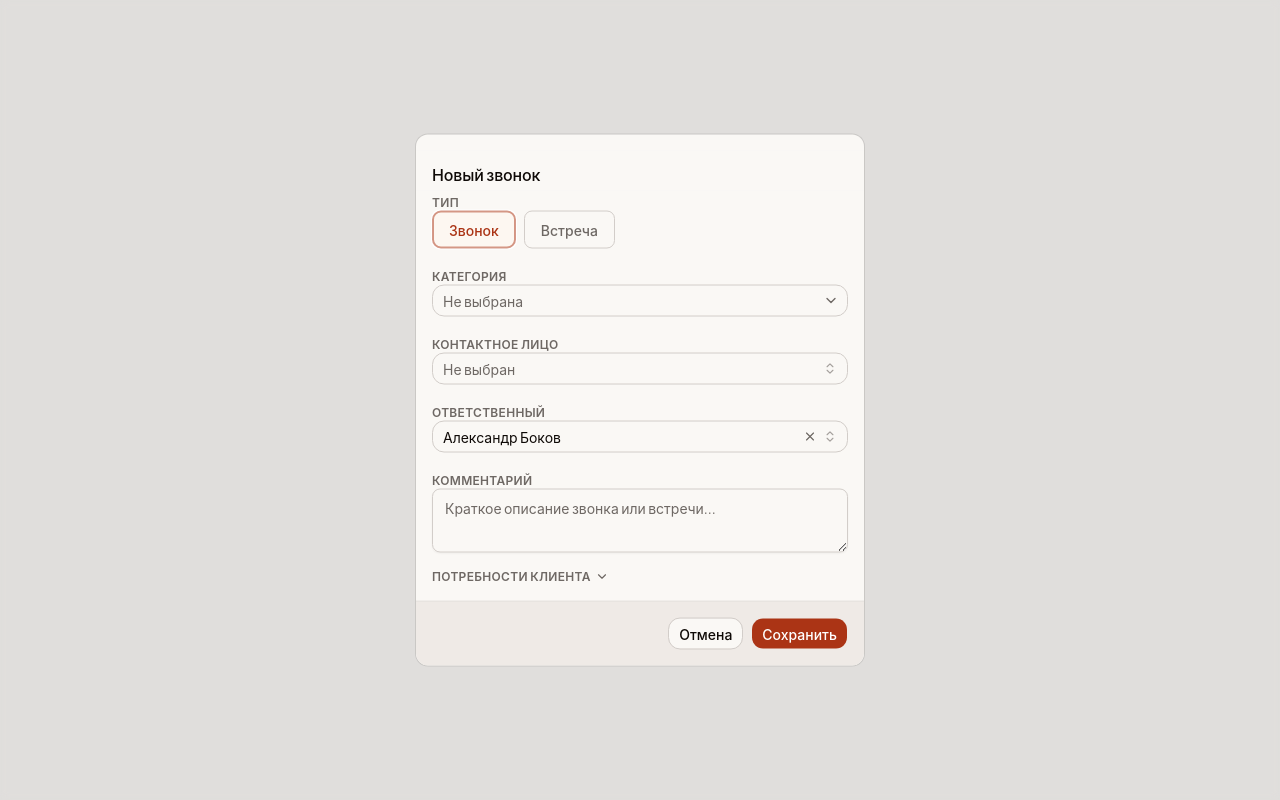
Scenario: CallFormModal — Ответственный shows full name not UUID › shows every org user as a full-name option (not as UUIDs) inside Ответственный
Click the button with aria-label "Ответственный" at (502, 436), box [432,420,848,452]
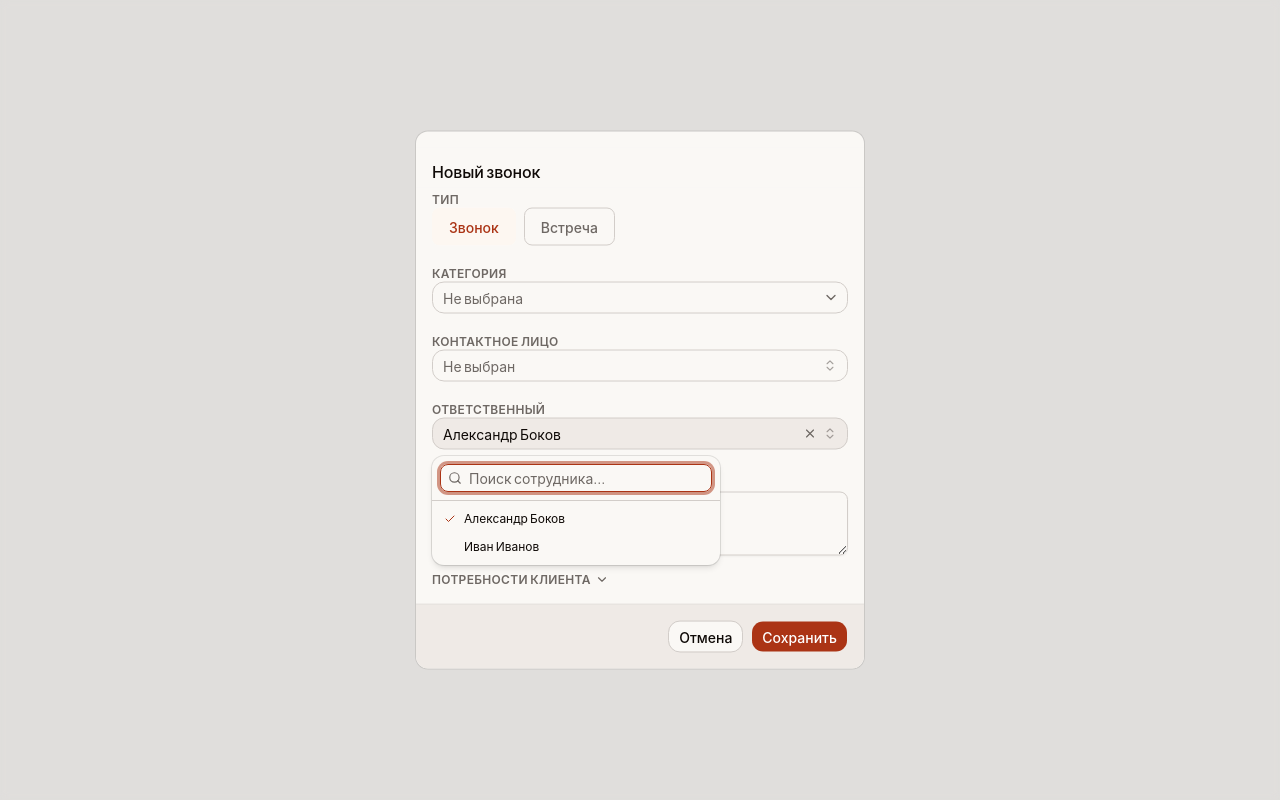
Now the text "Иван Иванов" is shown, box [464,539,539,554]
